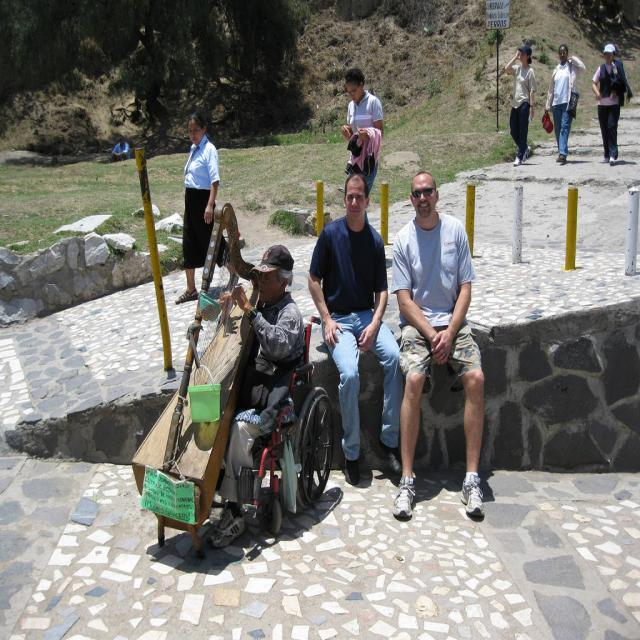harp: (132, 202, 266, 543)
